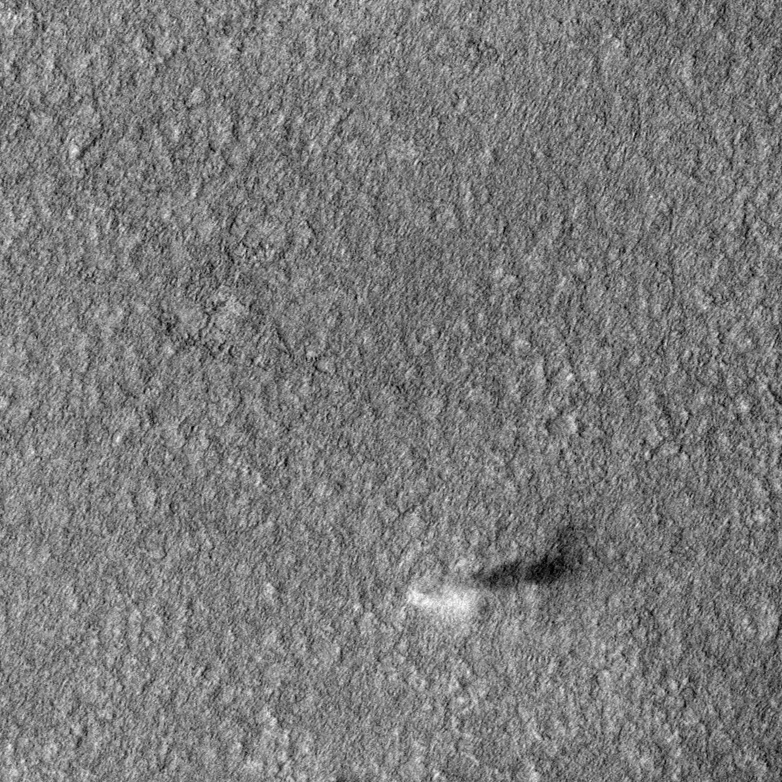dust_devil: (402, 525, 594, 624)
